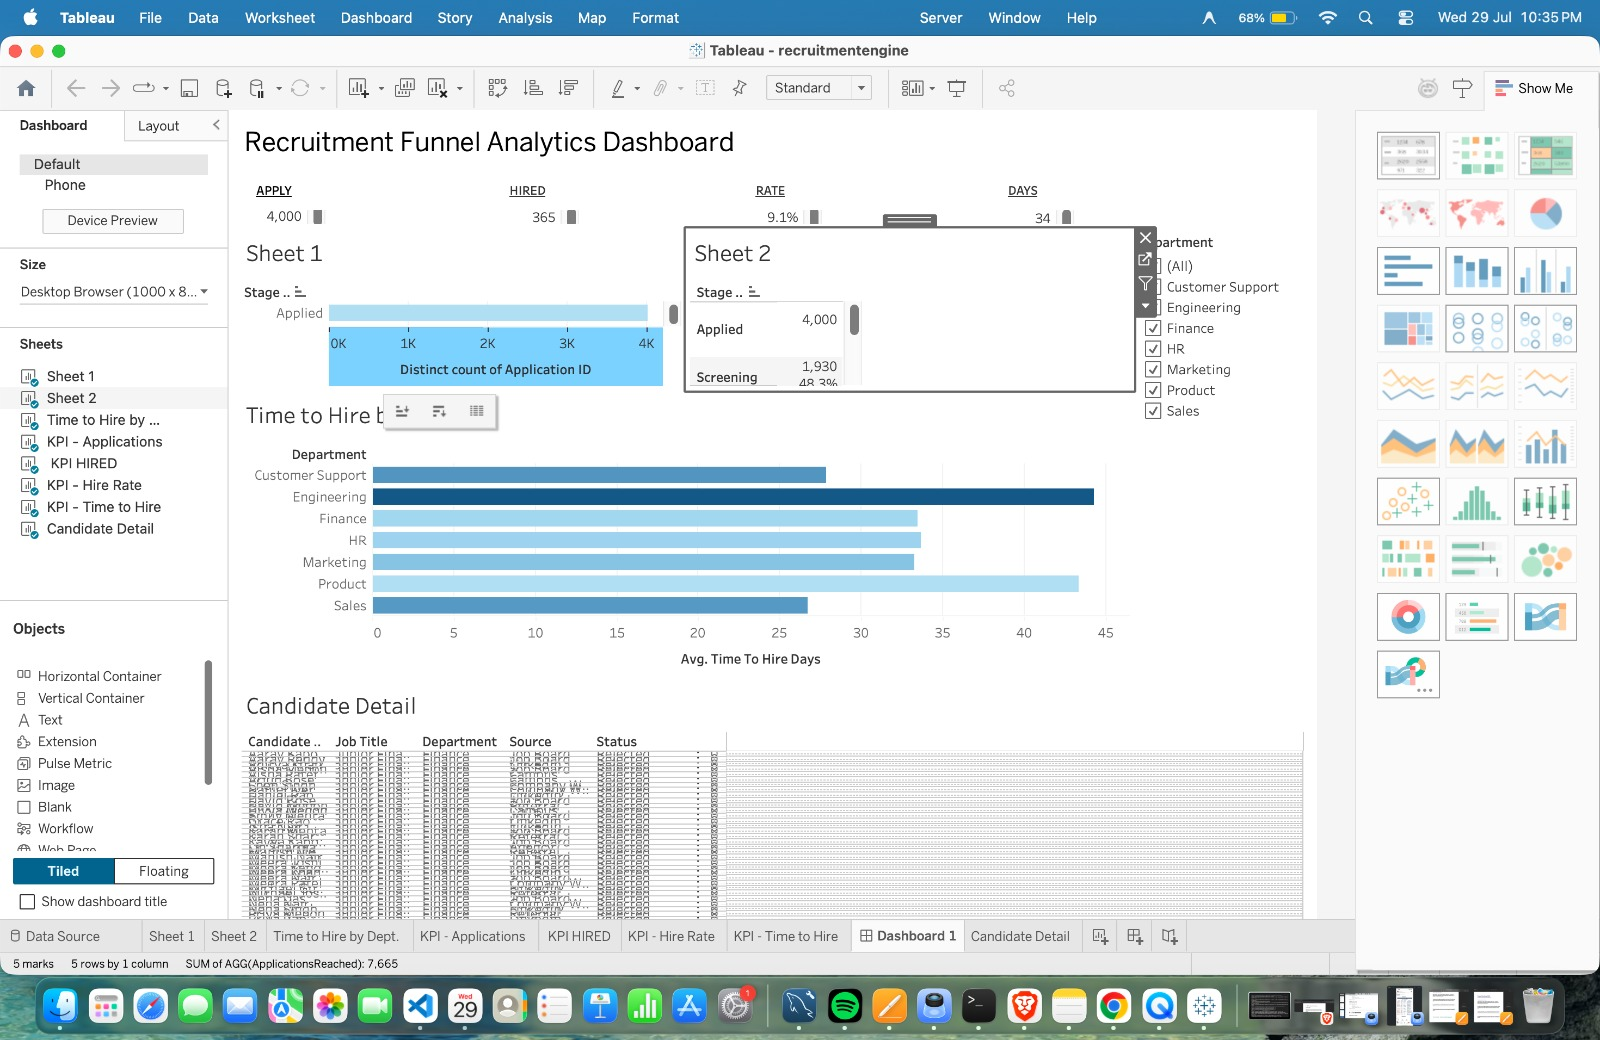

Layout of this report page (visuals, bound fields, positions):
{"tool":"tableau","page":{"name":"Dashboard 1","canvas":[1000,800],"ordinal":0},"visuals":[{"type":"title","box":[8,8,984,58]},{"type":"worksheet","title":"KPI - Applications","mark":"Text","box":[8,66,232.5,51]},{"type":"worksheet","title":" KPI HIRED","mark":"Text","box":[240.5,66,223,51]},{"type":"worksheet","title":"KPI - Hire Rate","mark":"Text","box":[463.5,66,232.5,51]},{"type":"worksheet","title":"KPI - Time to Hire","mark":"Text","box":[696,66,296,51]},{"type":"worksheet","title":"Sheet 1","mark":"Automatic","rows":["StageName"],"cols":["ApplicationID"],"box":[8,117,412,149]},{"type":"worksheet","title":"Sheet 2","mark":"Text","rows":["StageName"],"box":[420,117,412,149]},{"type":"filter","title":"Time to Hire by Dept.","param":"[federated.16c68kj1h8sj8d11y1o8j1gnaigk].[none:Department:nk]","box":[832,117,160,188]},{"type":"worksheet","title":"Time to Hire by Dept.","mark":"Automatic","rows":["Department"],"cols":["TimeToHireDays"],"box":[8,266,824,267]},{"type":"worksheet","title":"Candidate Detail","mark":"Text","rows":["CandidateName","JobTitle","Department","Source","Status","TimeToHireDays"],"box":[8,533,984,259]}]}

Visuals, with their boxes on the page's 1000x800 design canvas (x1, y1, x2, y2). These are canvas units, not pixel positions in the 1600x1040 screenshot, which may show the page scaled, cropped or inside an application window:
title: locate(8, 8, 992, 66)
"KPI - Applications" worksheet (Text marks): locate(8, 66, 240, 117)
" KPI HIRED" worksheet (Text marks): locate(240, 66, 464, 117)
"KPI - Hire Rate" worksheet (Text marks): locate(464, 66, 696, 117)
"KPI - Time to Hire" worksheet (Text marks): locate(696, 66, 992, 117)
"Sheet 1" worksheet: locate(8, 117, 420, 266)
"Sheet 2" worksheet (Text marks): locate(420, 117, 832, 266)
"Time to Hire by Dept." filter: locate(832, 117, 992, 305)
"Time to Hire by Dept." worksheet: locate(8, 266, 832, 533)
"Candidate Detail" worksheet (Text marks): locate(8, 533, 992, 792)
